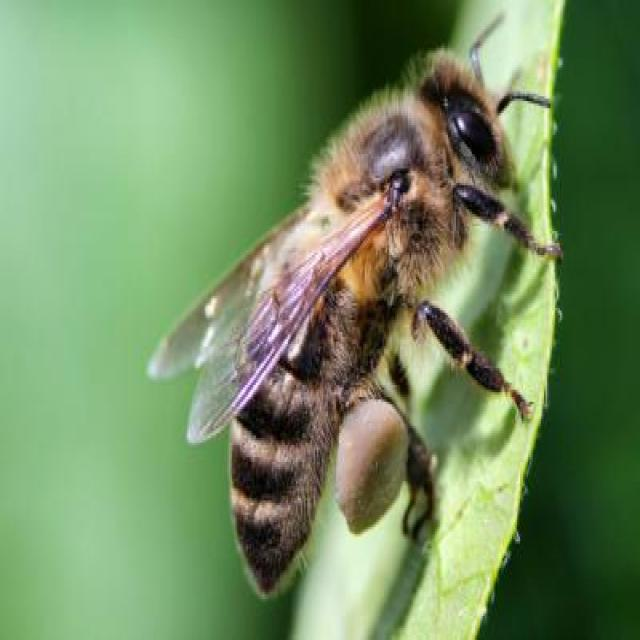antennae: (473, 12, 507, 86), (495, 84, 551, 120)
body: (233, 58, 518, 601)
insect: (148, 12, 563, 604)
legs: (404, 294, 528, 425), (360, 385, 439, 548), (452, 181, 563, 268), (381, 350, 413, 416)
mouthpart: (500, 141, 520, 196)
wings: (186, 182, 402, 454), (148, 200, 313, 381)
